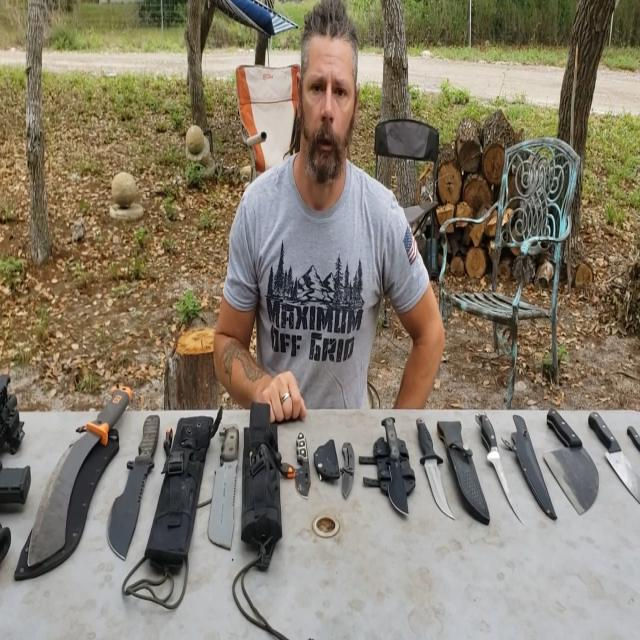knife: (19, 368, 132, 562), (91, 394, 168, 556), (532, 392, 600, 522), (203, 397, 252, 557), (408, 404, 471, 526), (465, 397, 527, 519), (582, 396, 640, 511), (374, 403, 419, 520), (332, 432, 367, 503), (290, 420, 316, 514)
